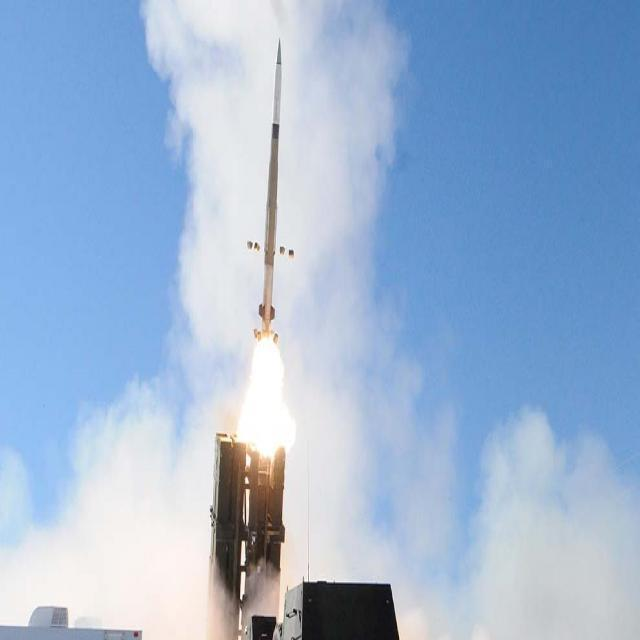missile: (239, 38, 308, 347)
